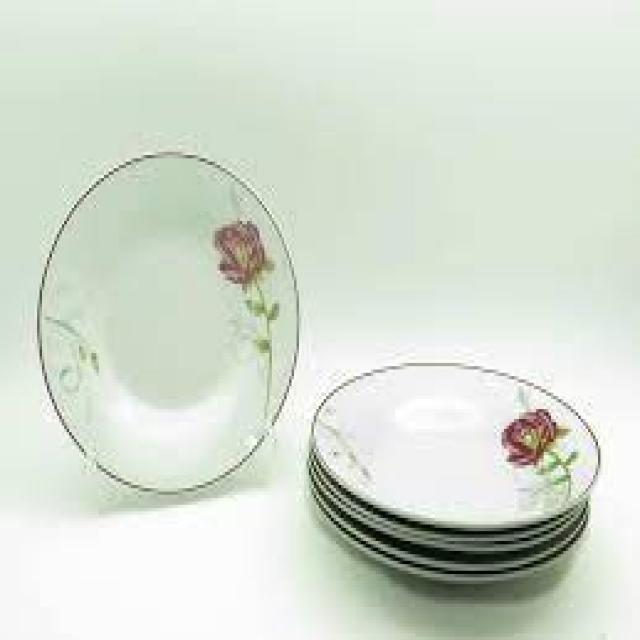Plate: (26, 132, 306, 513), (314, 319, 604, 599)
